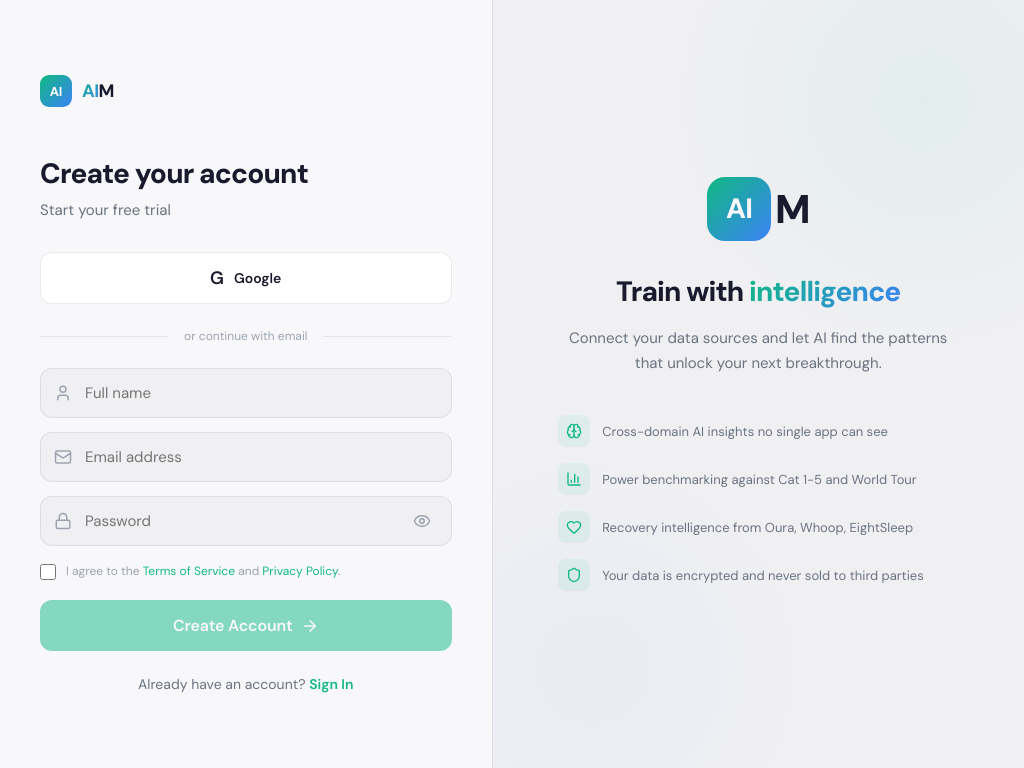
Auth page — signup mode › shows error when email is empty (terms accepted)
Click the checkbox: (48, 572) 40,564 -> 56,580
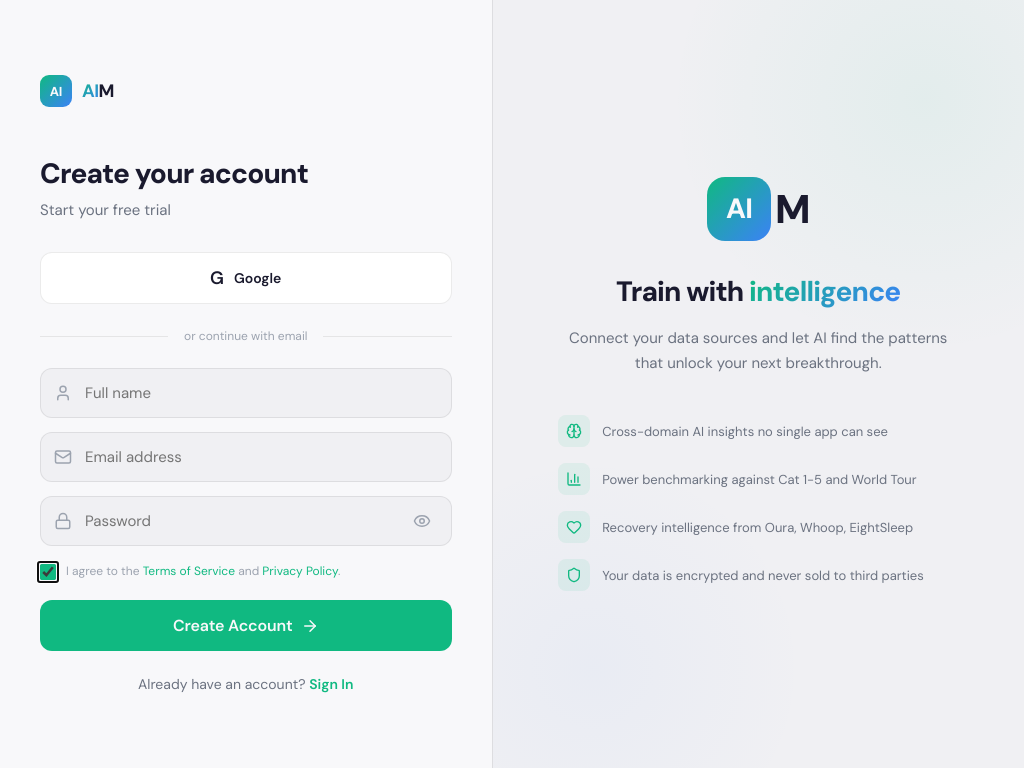
In the field with placeholder "Full name": (246, 393) 40,368 -> 452,418, type "Test User"
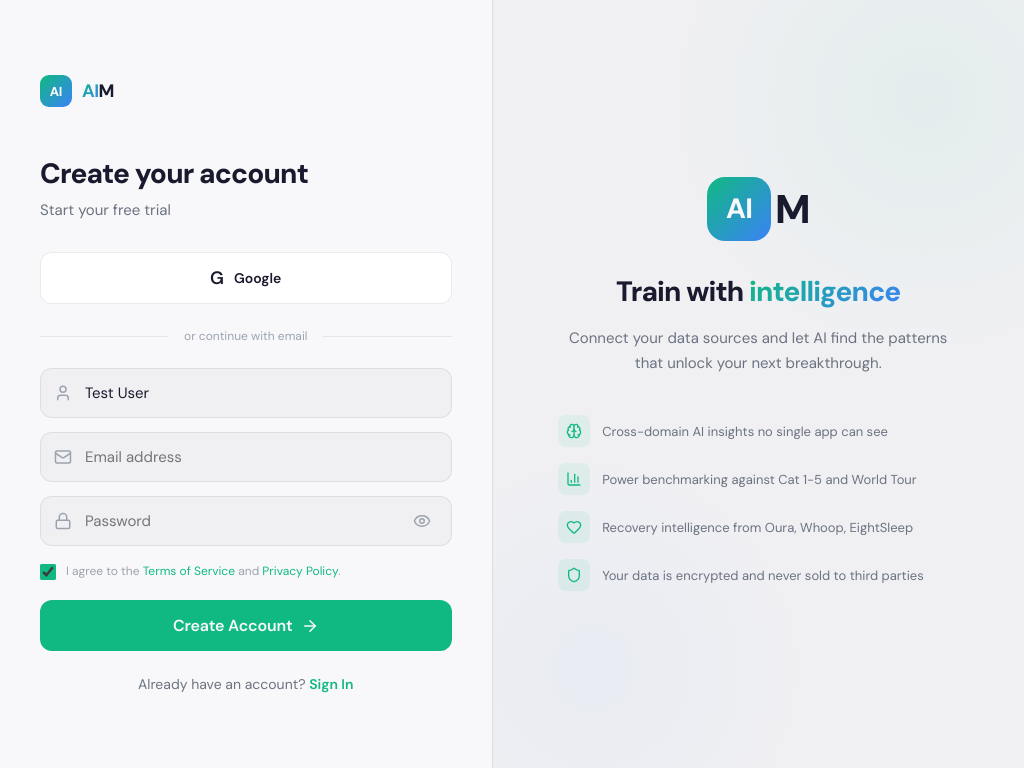
Click the button "Create Account": (246, 626) 40,600 -> 452,651
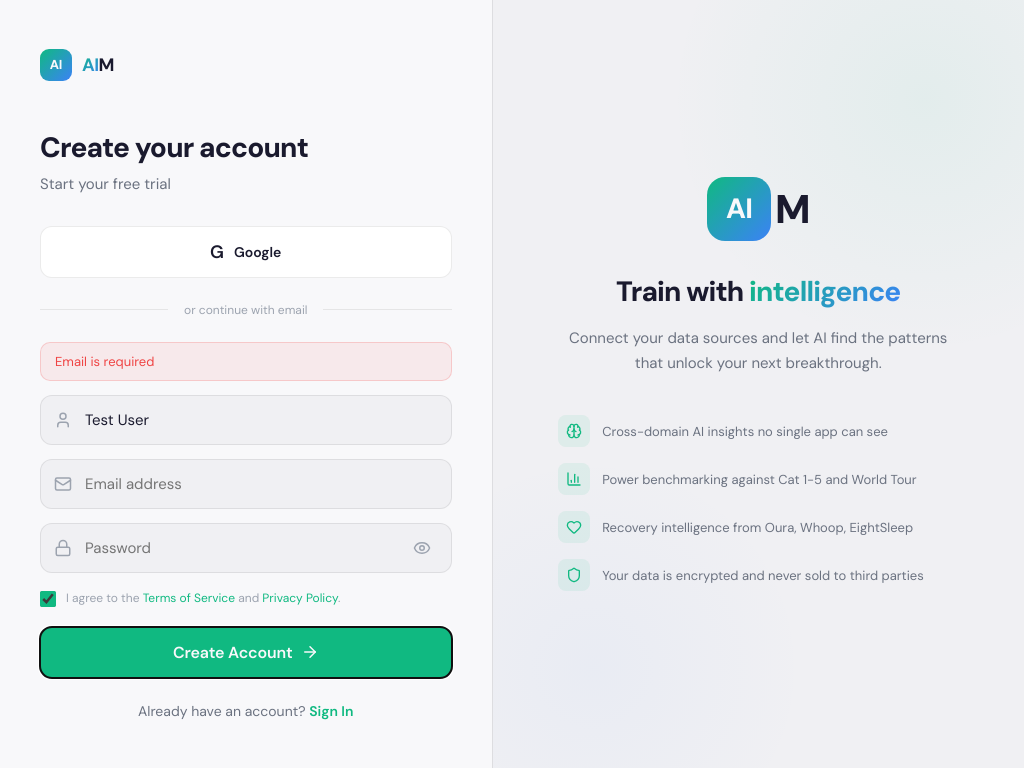
Now the text "Email is required" is shown, box 40,342 -> 452,380
